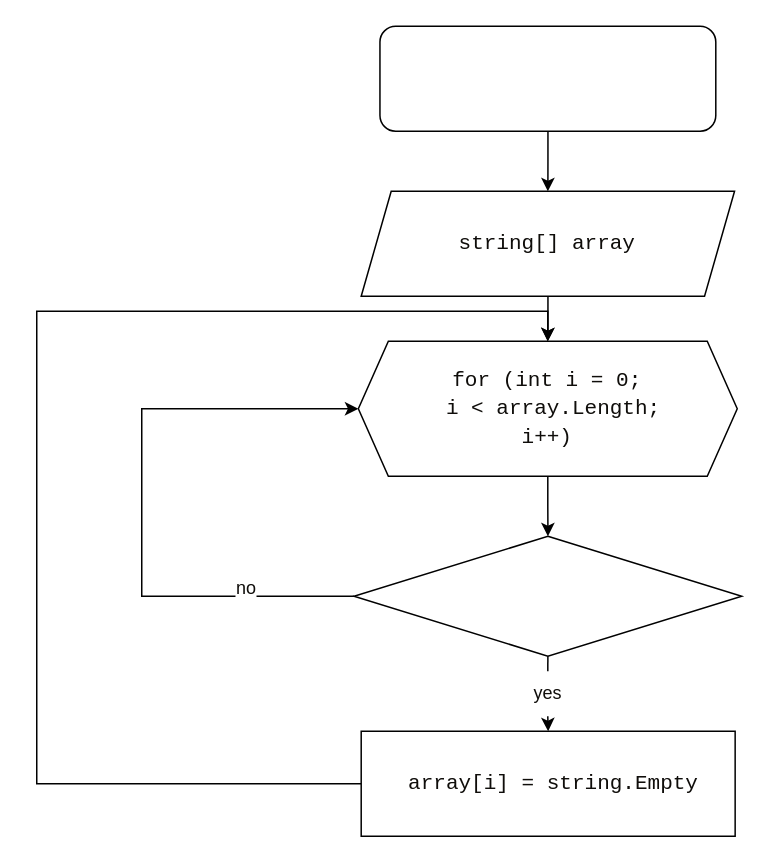
Some shapes in this 768 by 863 pixel diagram are drawn without their labels. Each missing label, with the centre of its shape:
"ChangeA rray" goes at (547,78).
"if (array[i].Length > 3)" goes at (547,595).
